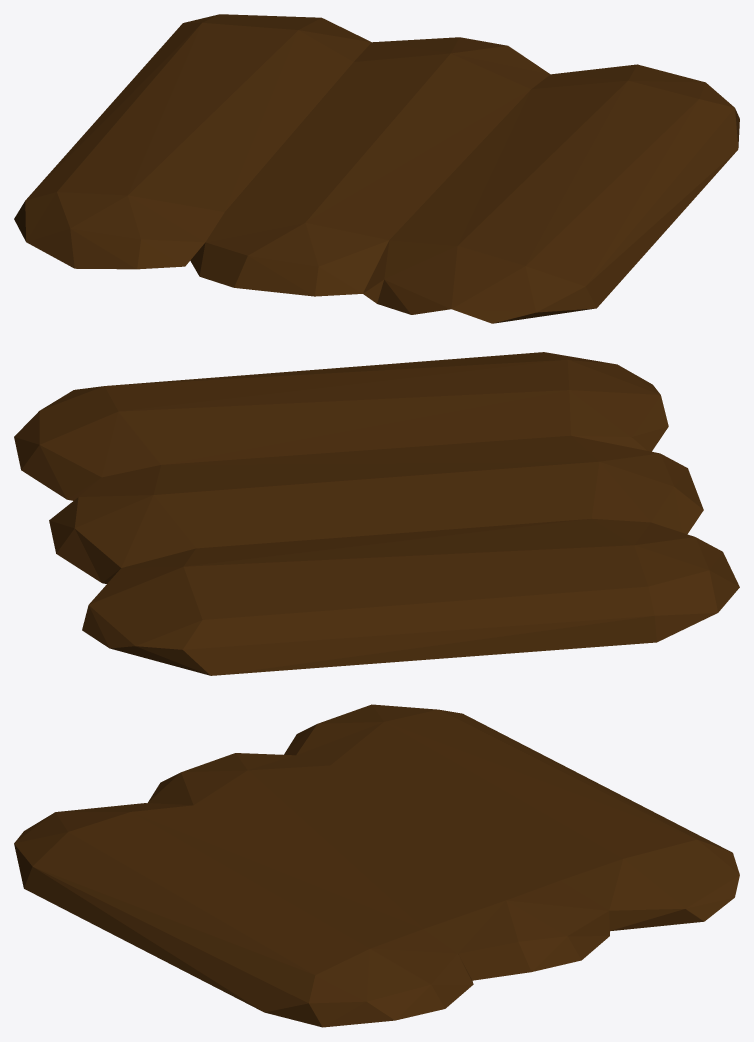
File: FarmGround(Pickup).fbx
3 renders of one model, top to bottom at view 1: azimuth 30°, elevation 25°; view 2: azimuth 150°, elevation 25°; view 3: azimuth 270°, elevation 25°, orthographic. The views are drawn at different scales.
Visible parts, largest first — view 1: FarmGround_Pickup_; view 2: FarmGround_Pickup_; view 3: FarmGround_Pickup_.
Boxes of the visible parts, x1,y1,x2,y2 form: FarmGround_Pickup_: (14, 14, 739, 323); FarmGround_Pickup_: (14, 352, 739, 675); FarmGround_Pickup_: (14, 704, 739, 1027).
Bounding box in the file's own units: 61.42 × 3.6 × 61.12.
